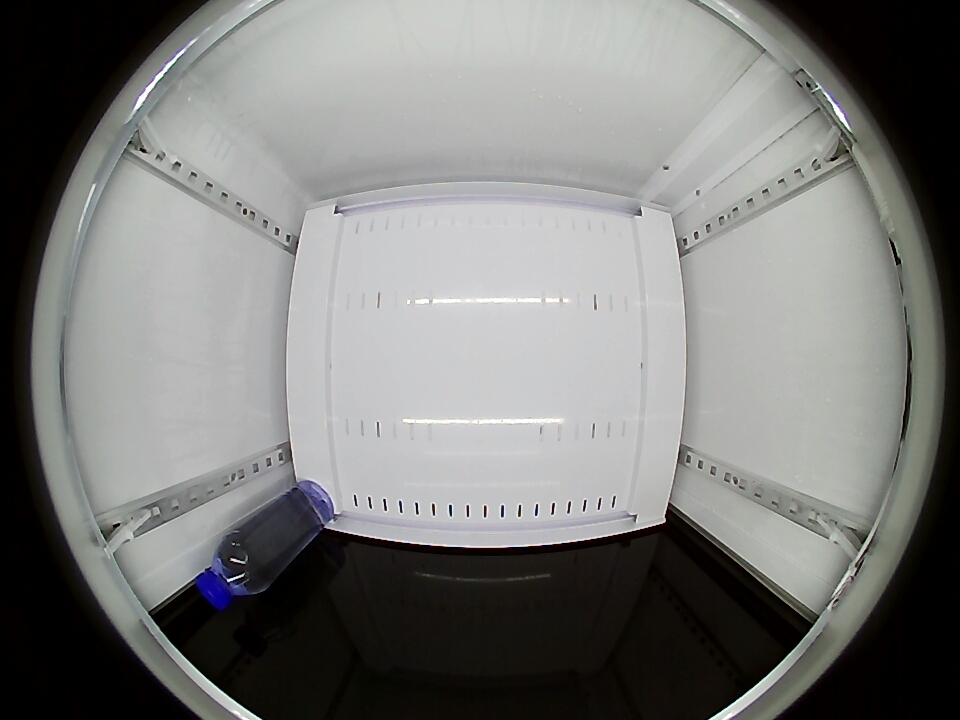aerbeisi: (196, 538, 264, 609)
